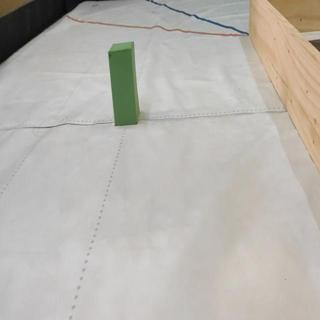greenbox: (110, 43, 139, 125)
